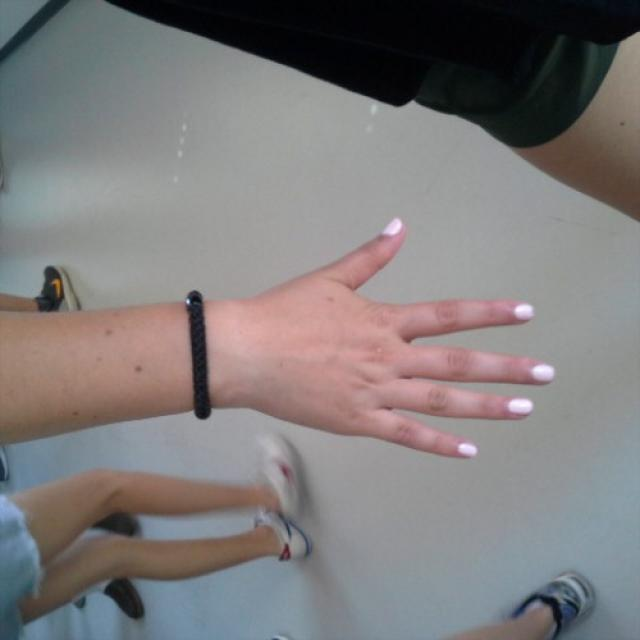paper: (266, 214, 561, 466)
